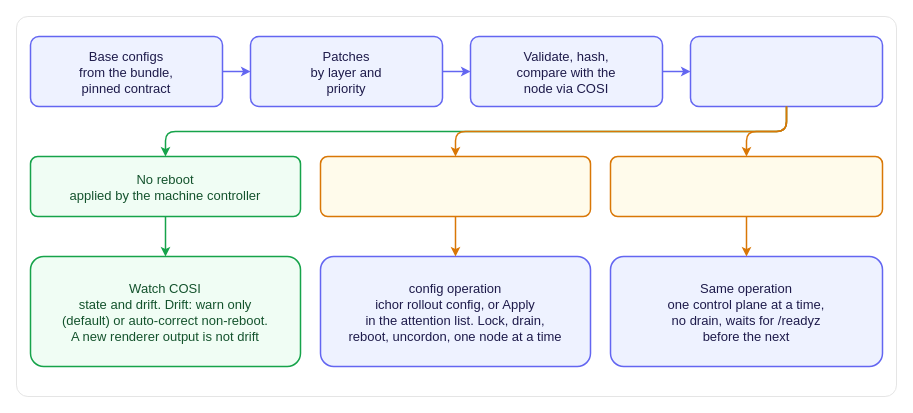
The diagram is 913 pixels wide and 413 high, and some of its shapes have lost their labels. The box of each missing label's shape, as (x1, y1, x2, y2) in pixels:
APIServerRestart never applied to a control plane: (609, 155, 883, 217)
Differs? apply; the mode comes from the diff: (689, 35, 883, 107)
RebootRequired machine waits, names the fields: (319, 155, 591, 217)
